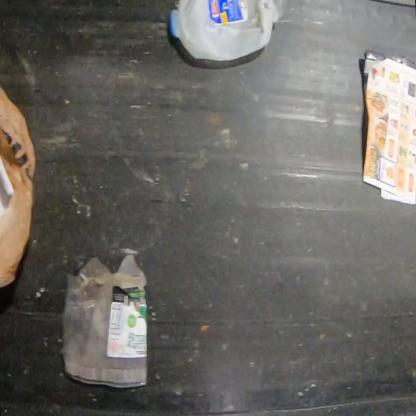rigid_plastic: (60, 253, 148, 388), (169, 0, 285, 61)
soft_plastic: (0, 83, 36, 289)
